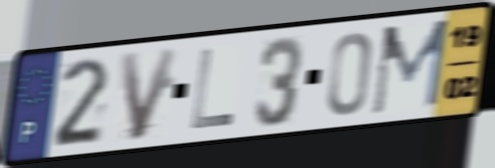0: (324, 30, 374, 119)
2: (48, 56, 112, 150)
3: (253, 33, 305, 130)
L: (188, 47, 236, 132)
M: (368, 16, 453, 119)
V: (117, 44, 181, 144)
